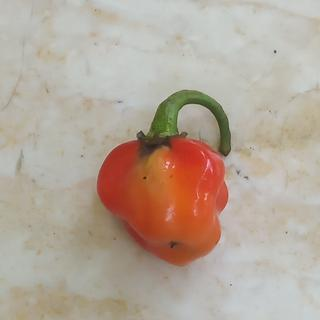Defect: (131, 130, 175, 164)
Fly-bites: (138, 171, 153, 188), (165, 238, 181, 250)
